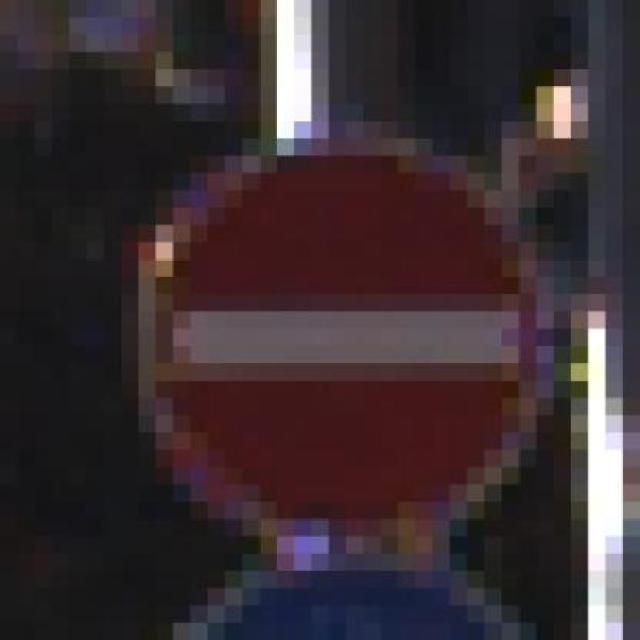B2: (132, 139, 526, 547)
